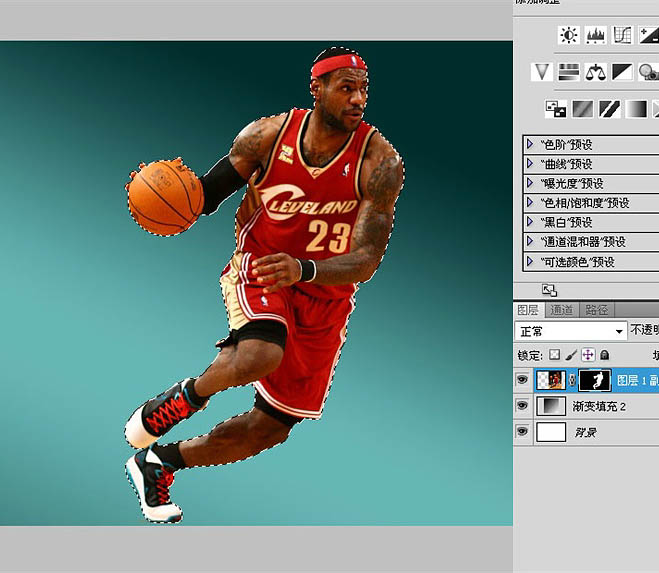ball: (126, 159, 204, 237)
